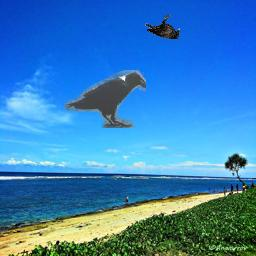Crow: (64, 70, 146, 128), (146, 15, 181, 40)
